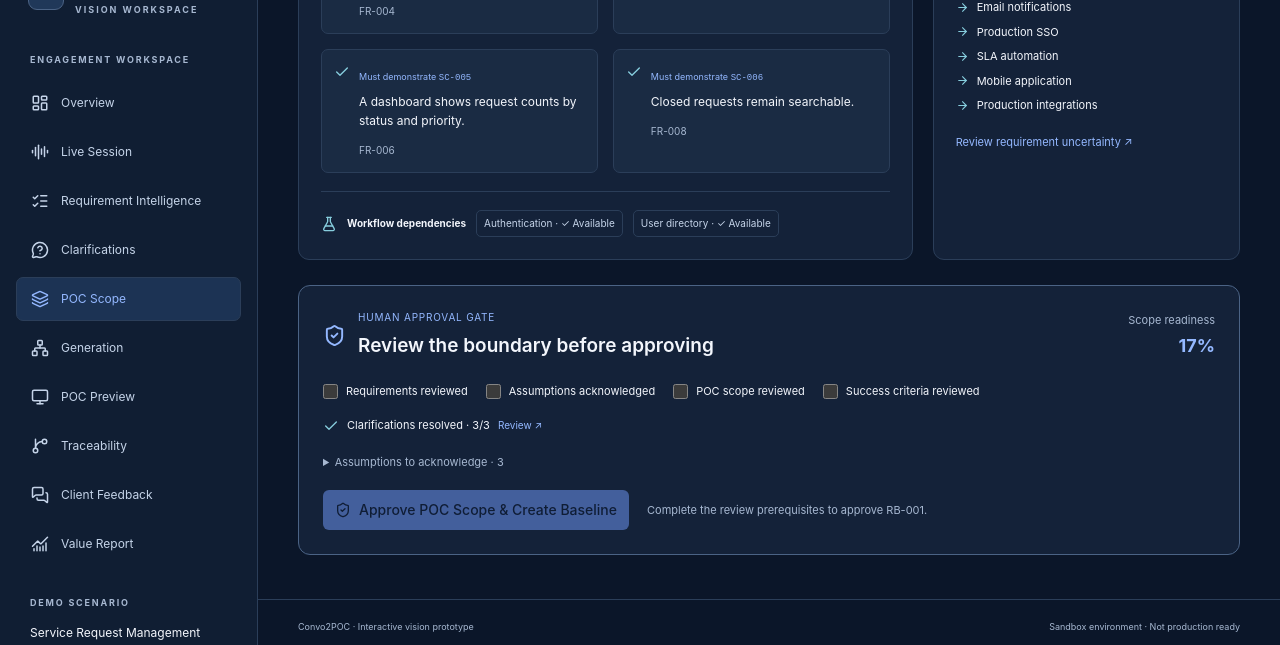
Scenario: POC Scope Studio › approves the reviewed scope and displays a locked baseline with no generation action
The image size is (1280, 645).
(page scrolled)
Step 1. Click the checkbox labelled "Requirements reviewed" → (330, 391), box [323,384,338,399]
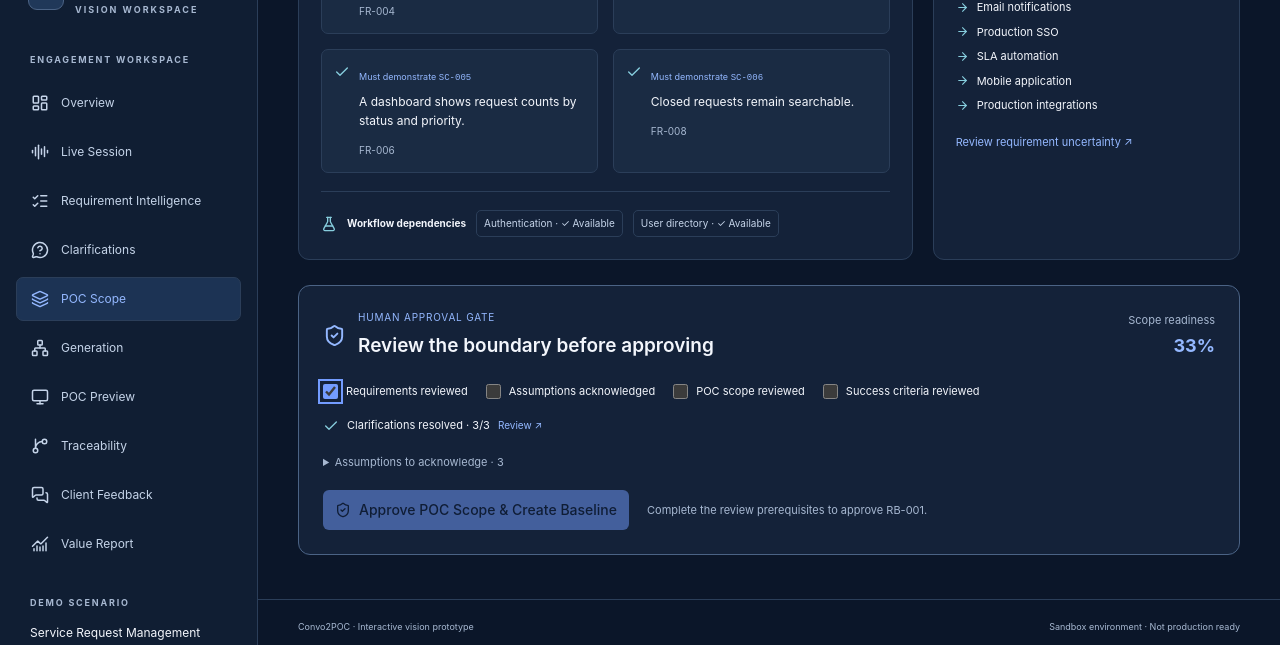
Step 2. Click the checkbox labelled "Assumptions acknowledged" → (493, 391), box [486,384,501,399]
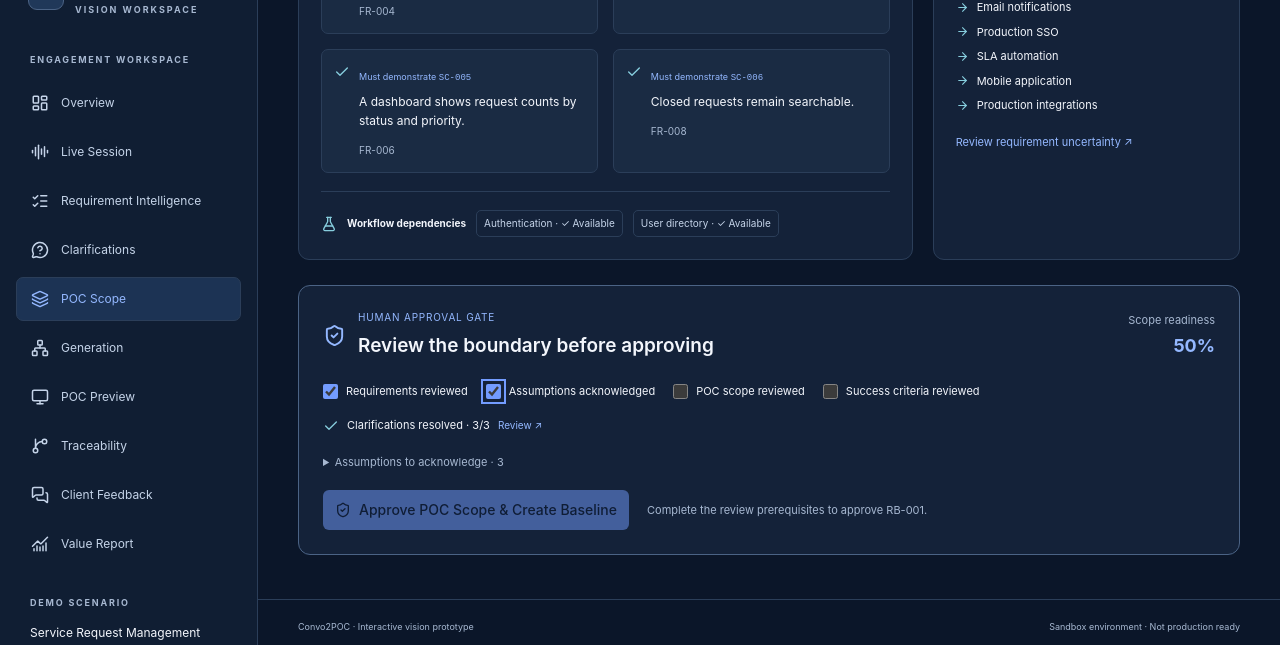
Step 3. Click the checkbox labelled "POC scope reviewed" → (681, 391), box [673,384,688,399]
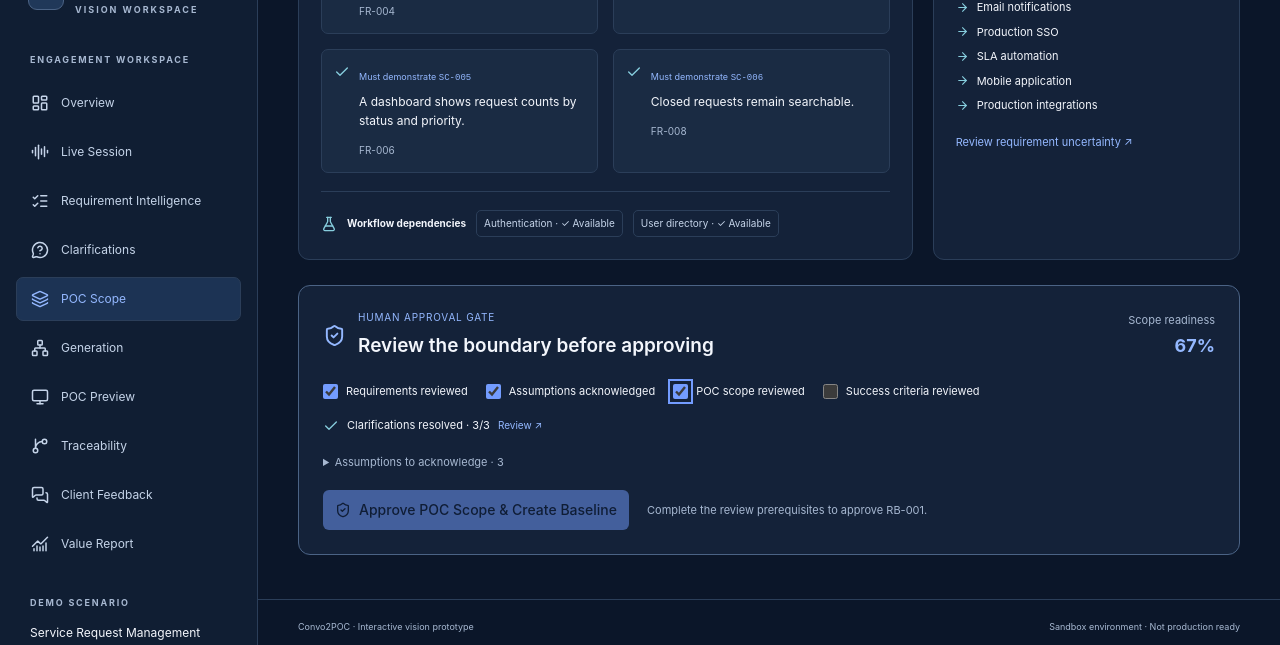
Step 4. Click the checkbox labelled "Success criteria reviewed" → (830, 391), box [823,384,838,399]
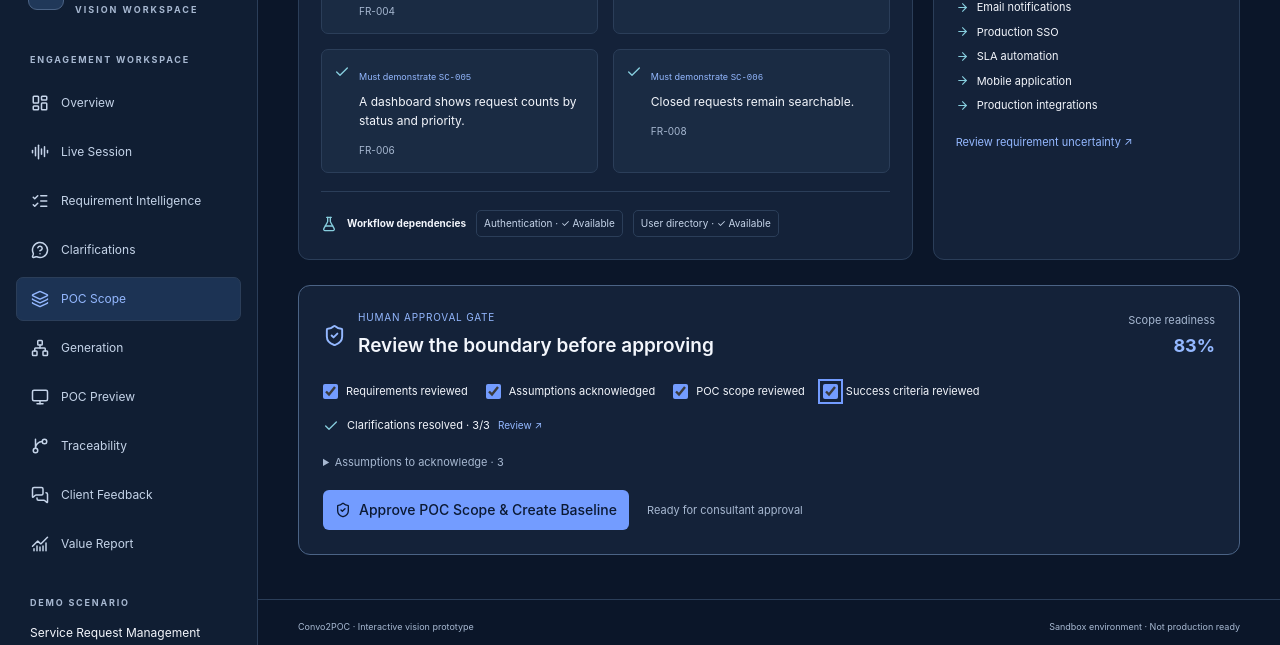
Step 5. Click the button "Approve POC Scope & Create Baseline" → (476, 510), box [323,490,629,530]
(page scrolled)
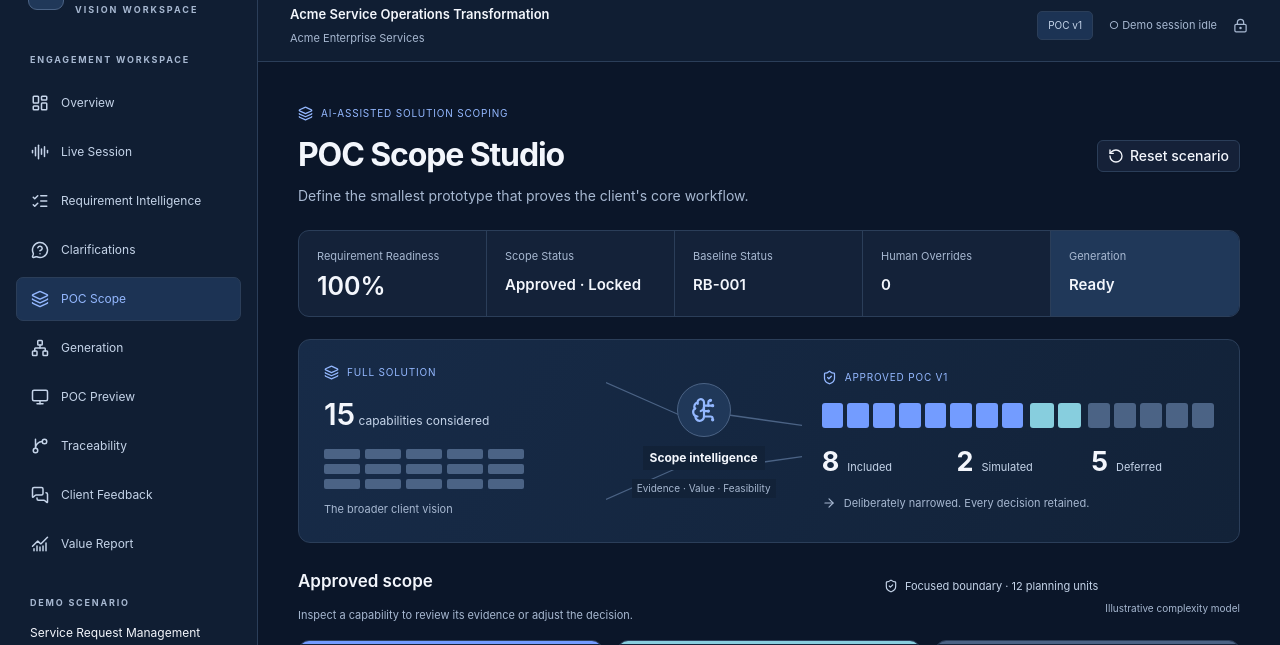
Step 6. Click the button "Reset scenario" → (1168, 156), box [1097,140,1240,172]
(page scrolled)
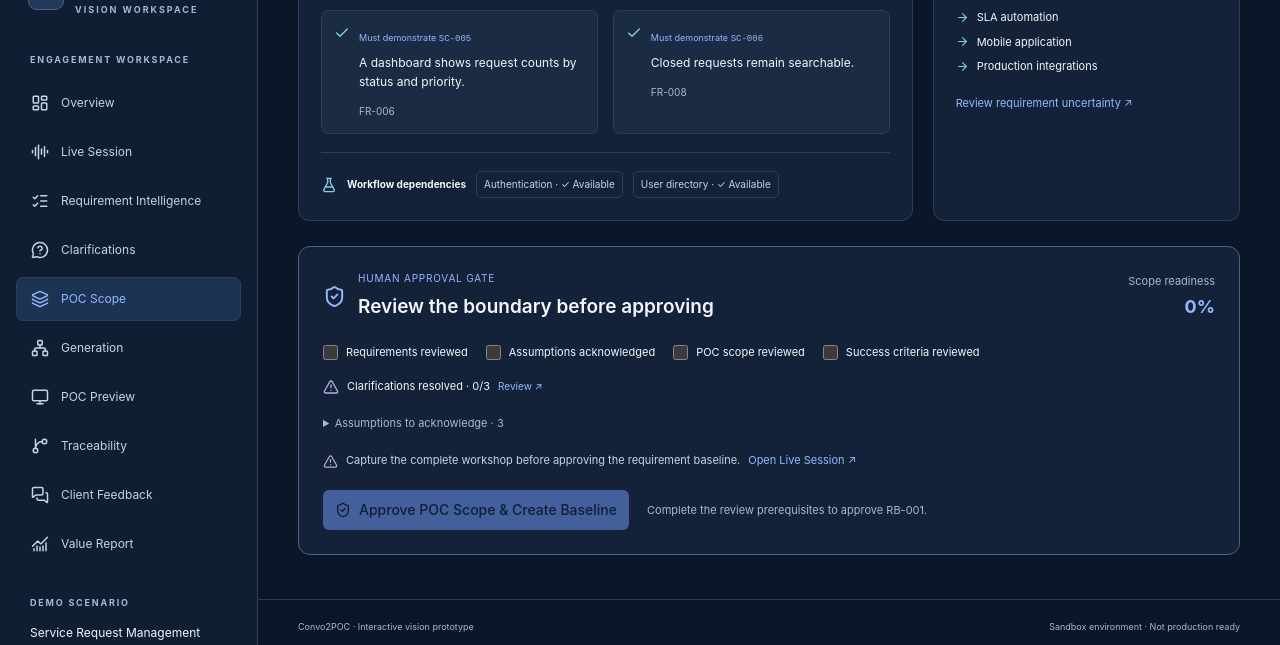
expect the button "Approve POC Scope & Create Baseline" is disabled: met, box [323,490,629,530]
